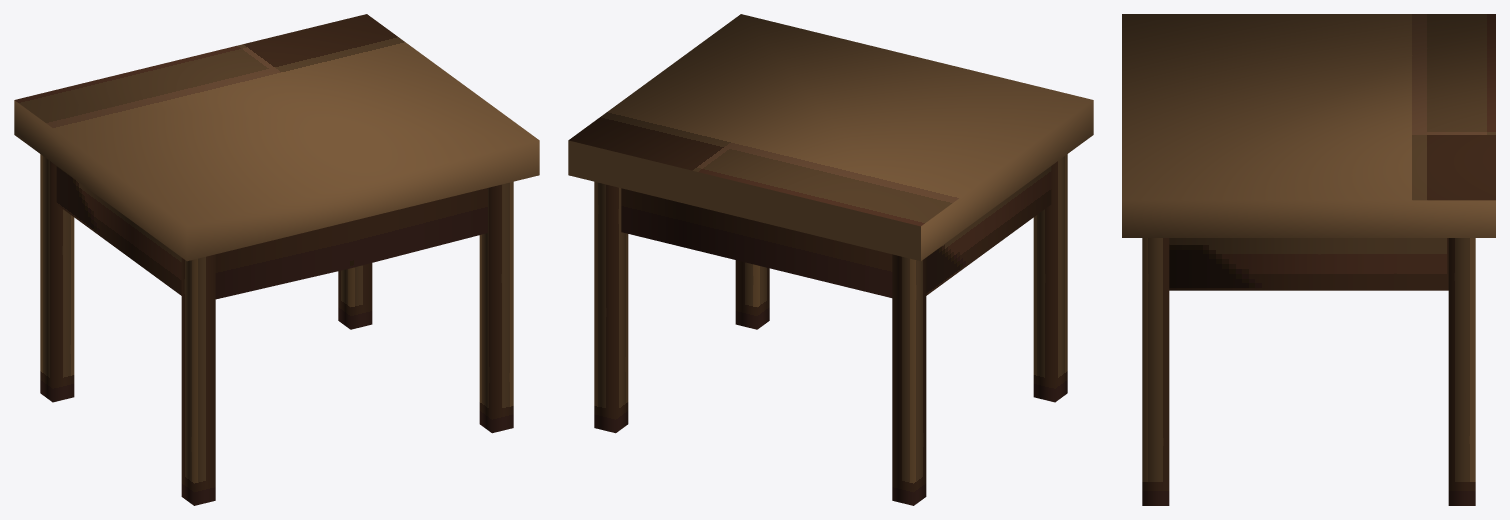
The picture shows the model from 3 angles, left to right: view 1: azimuth 30°, elevation 25°; view 2: azimuth 150°, elevation 25°; view 3: azimuth 270°, elevation 25°; orthographic projection. The views are drawn at different scales.
Parts seen in each view (by area): view 1: 3220IMSD01_06; view 2: 3220IMSD01_06; view 3: 3220IMSD01_06.
Boxes of the visible parts, box(x1,y1,x2,y2) form: 3220IMSD01_06: box(14, 14, 539, 505); 3220IMSD01_06: box(568, 14, 1093, 505); 3220IMSD01_06: box(1122, 14, 1495, 505).
Bounding box in the file's own units: 0.9526 × 0.75 × 0.8081.
Materials: 2 (2 with a texture image).
